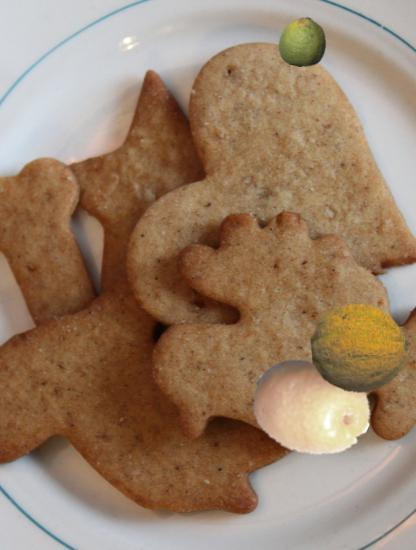Cantaloupe: (312, 300, 409, 397)
Kumquats: (251, 348, 372, 469)
Limes: (278, 17, 329, 68)
